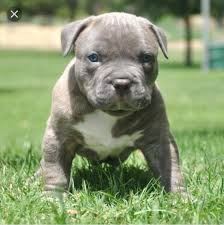Perro Pitbull: (44, 13, 191, 185)
